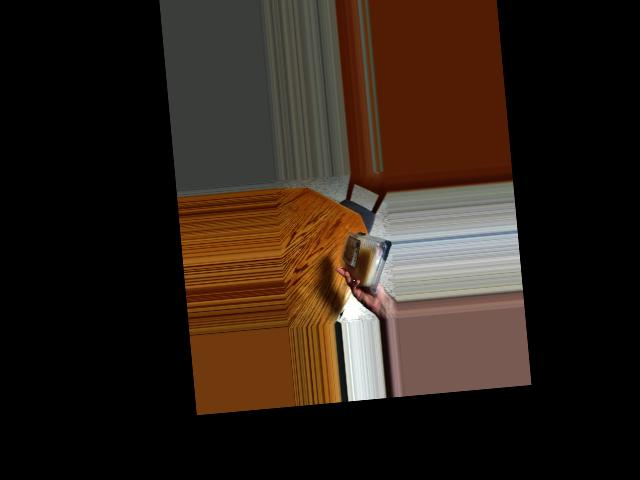cheese: (339, 229, 391, 289)
